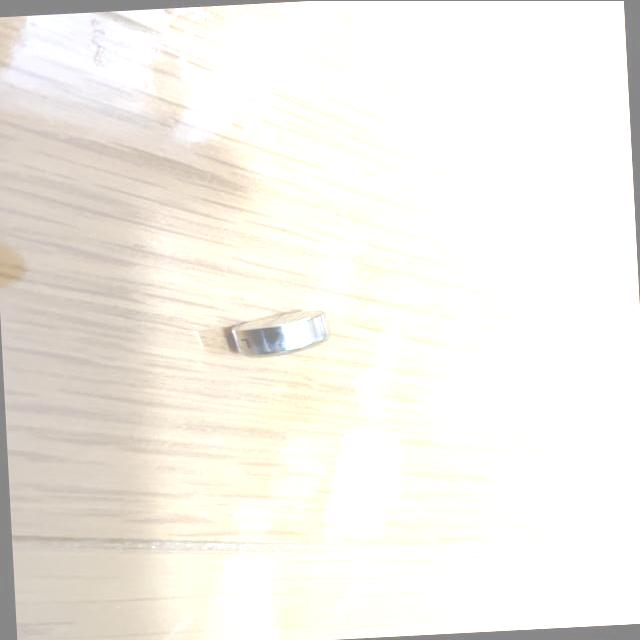COIN: (224, 308, 330, 359)
